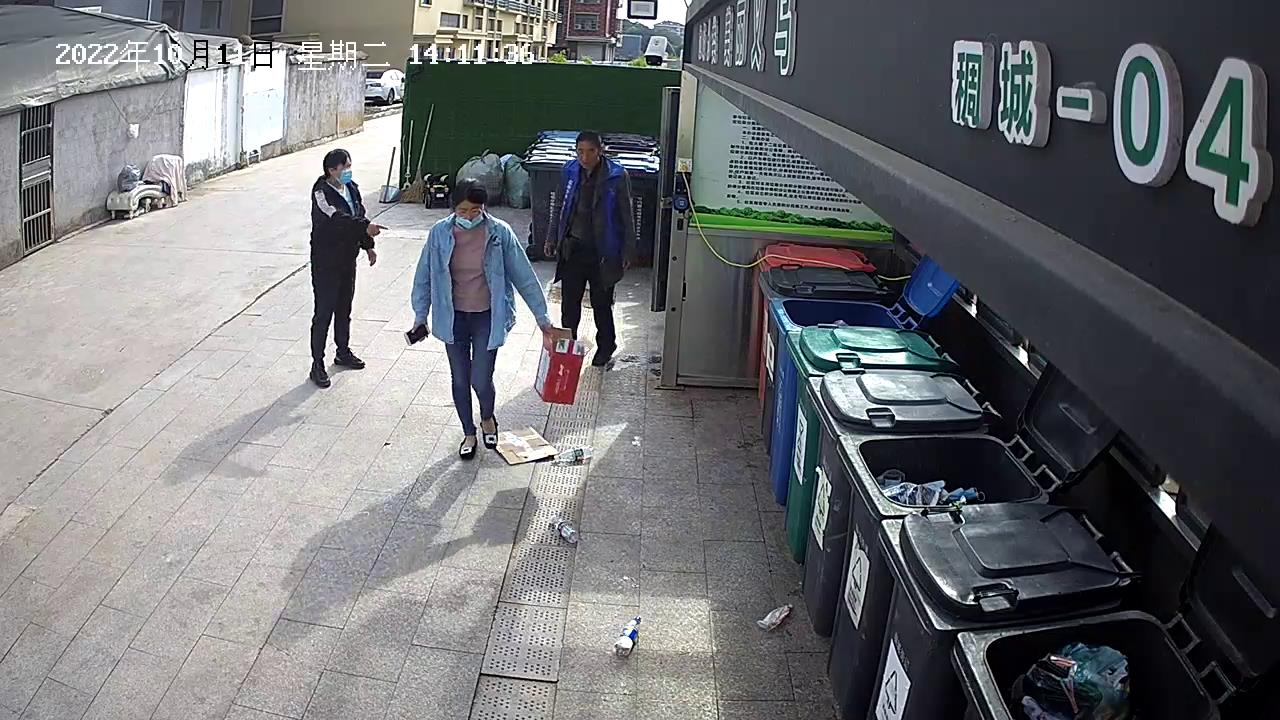person: (304, 146, 391, 390)
suliaozhipin: (546, 510, 583, 548), (755, 601, 797, 633), (613, 614, 642, 658), (550, 443, 597, 468)
worker: (402, 177, 559, 460), (542, 129, 640, 369)
zhizhipin: (531, 324, 589, 406), (489, 424, 563, 468)
